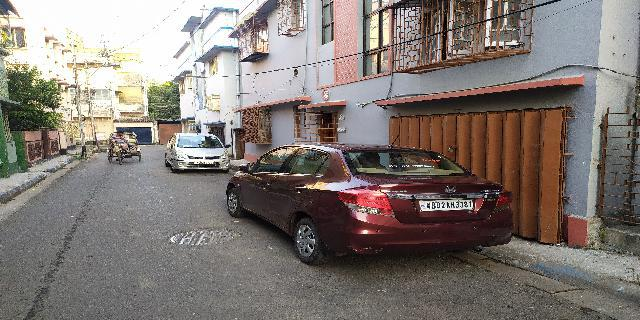Car: (223, 138, 514, 272), (162, 130, 231, 174)
